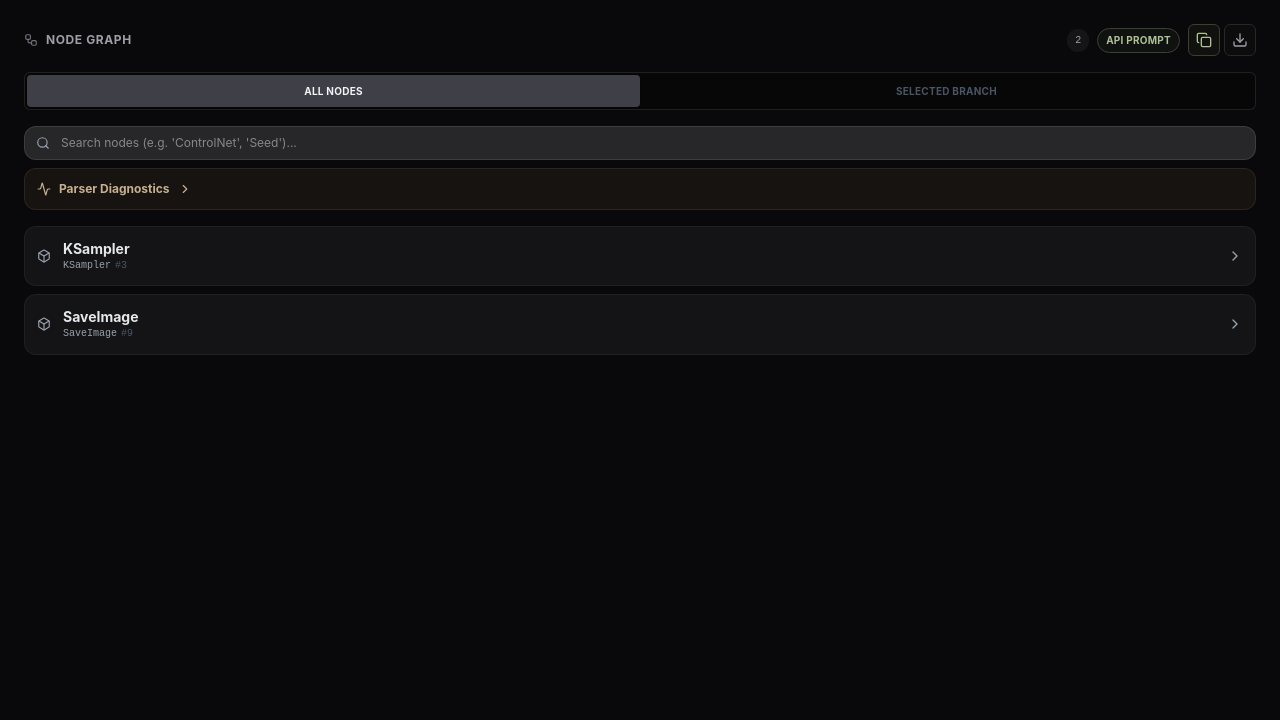
Test: WorkflowInspector ComfyUI parser diagnostics › renders global, explicit, empty, and missing diagnostic evidence
What coordinates should you click on to do the following:
click the button "Parser Diagnostics"
I would click on:
 (114, 188)
Its box is [37,181,1243,197].
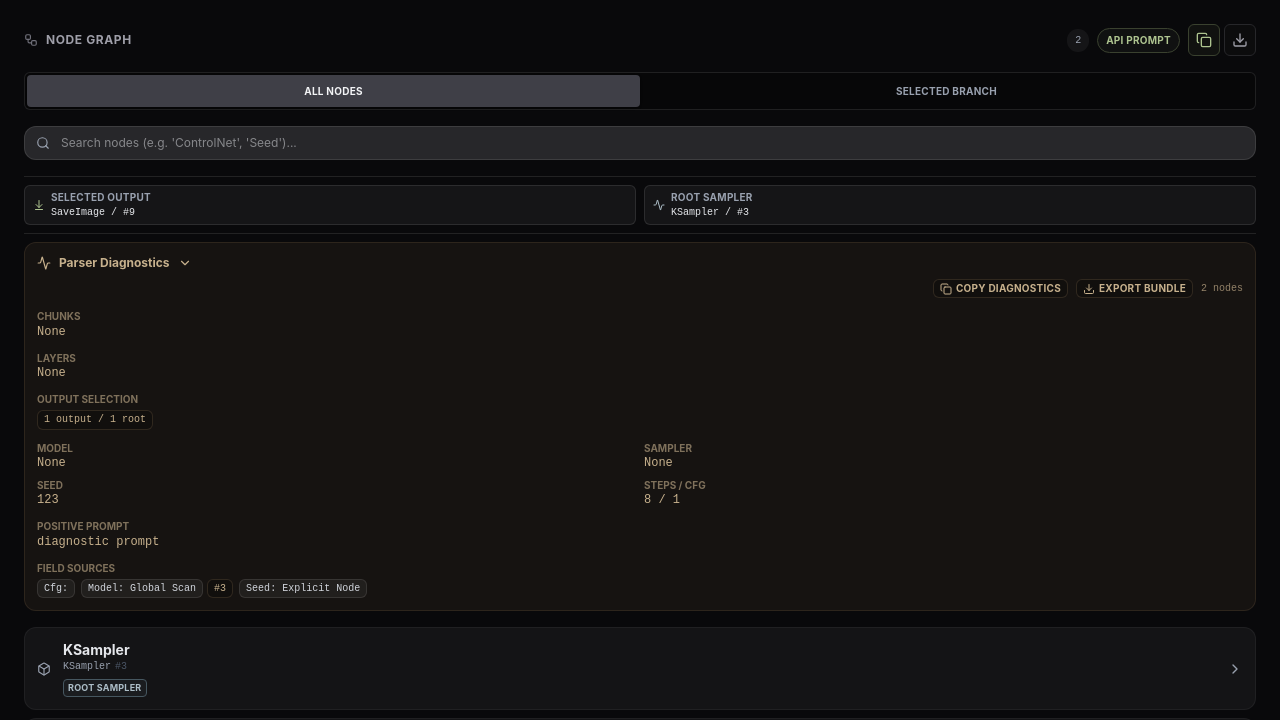
Expected: the text titled "Global Scan" is shown, [81,579,203,598]
Expected: the text titled "Explicit Node" is shown, [239,579,367,598]
